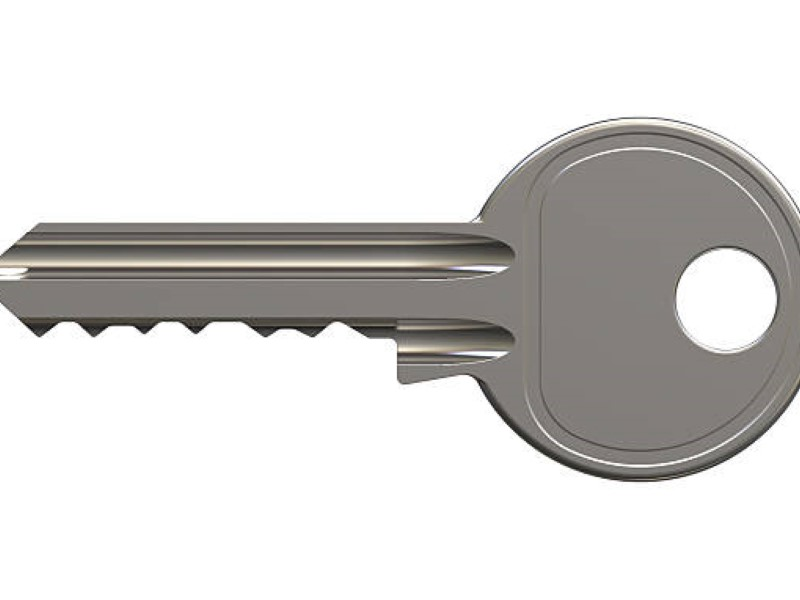key: (9, 115, 794, 486)
